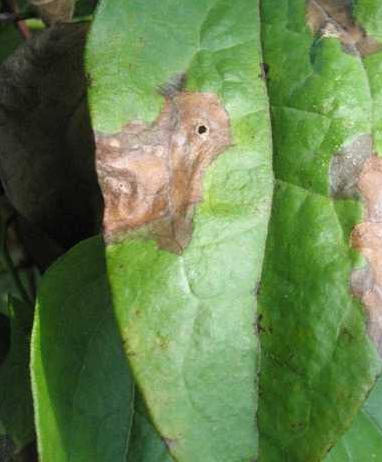Tomato leaf bacterial spot: (92, 0, 382, 462)
